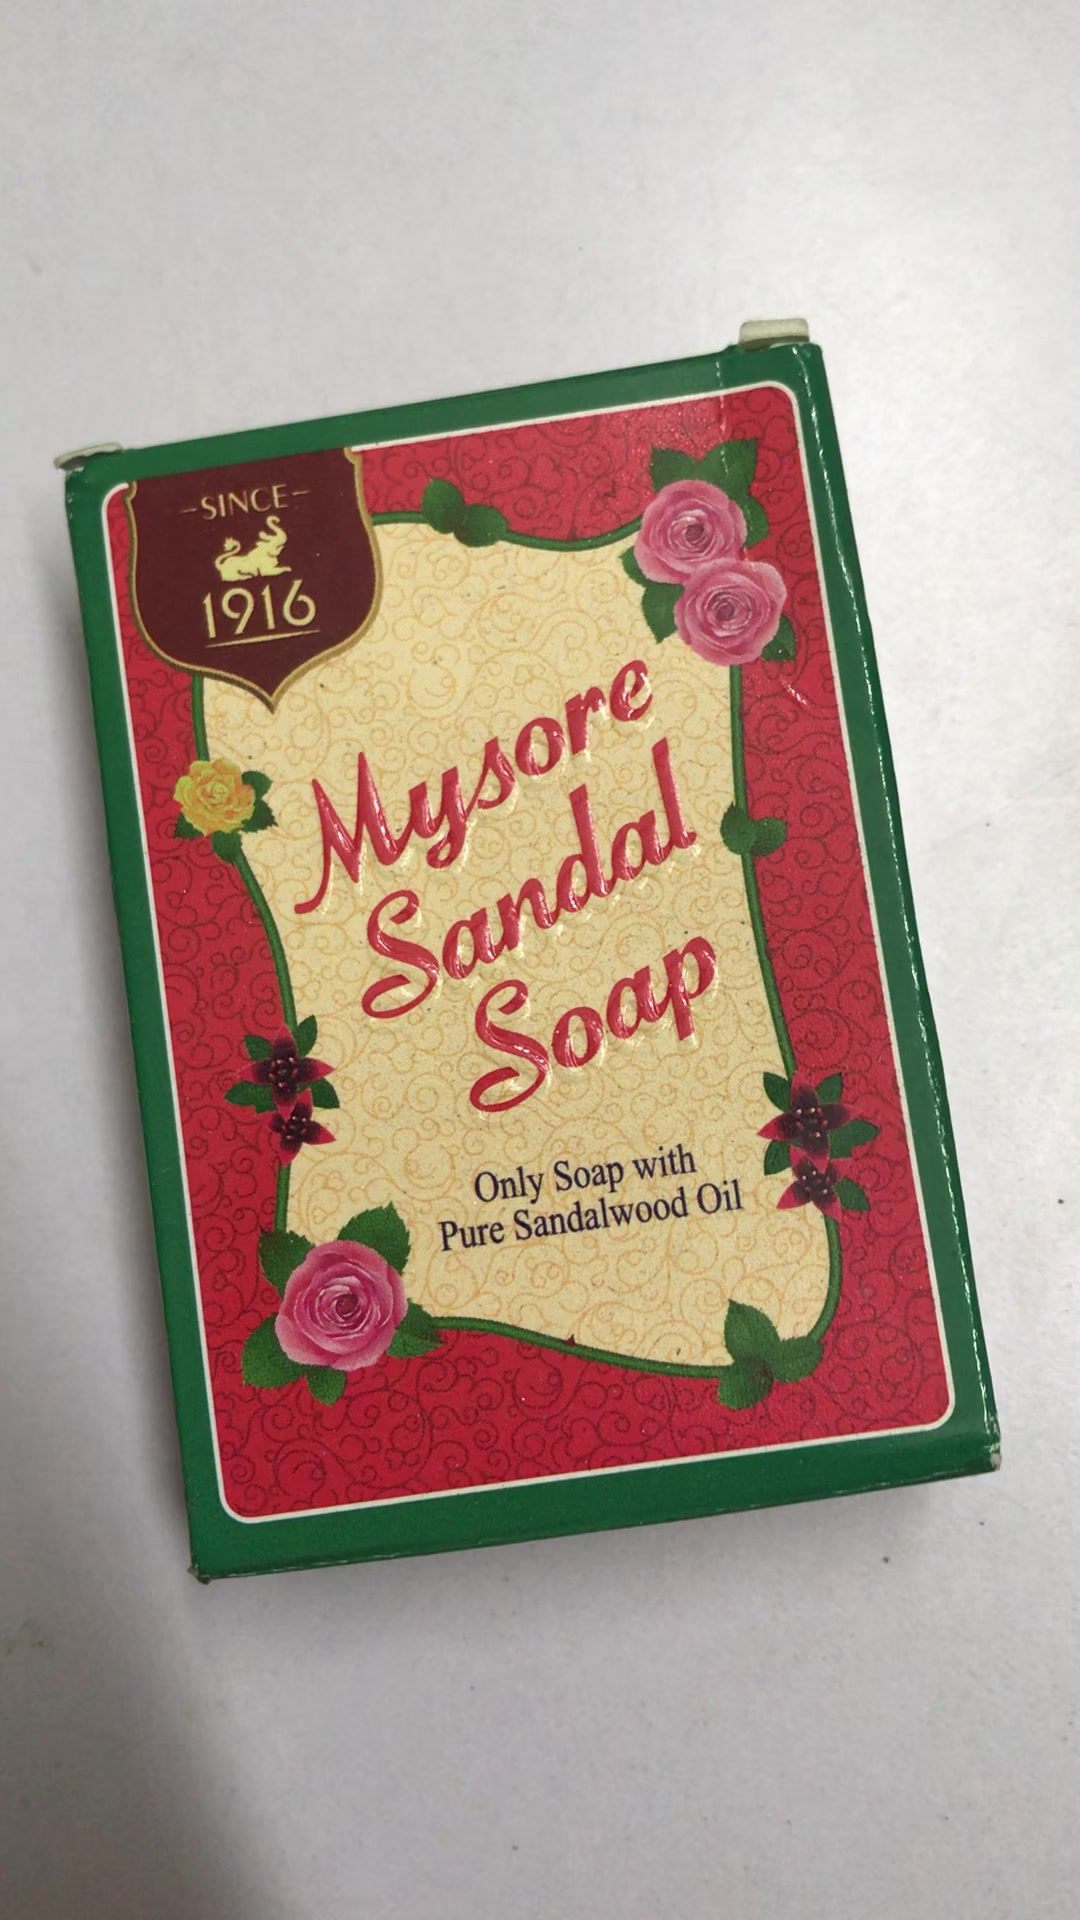mysore sandal soap: (70, 327, 1004, 1578)
